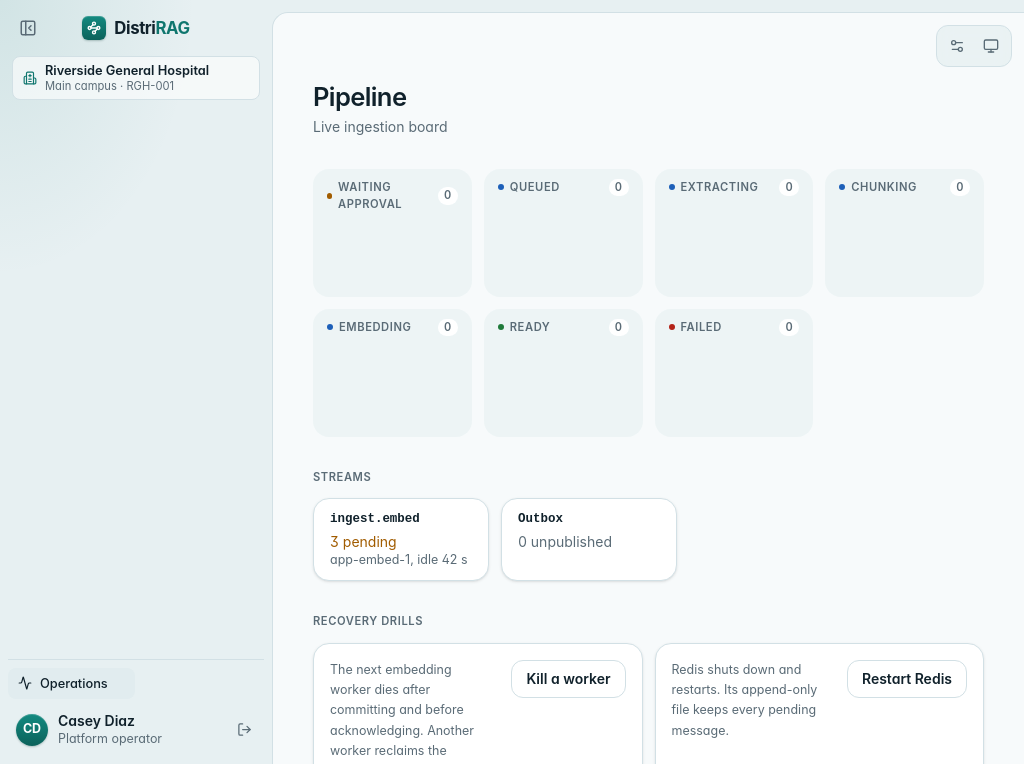
a drill asks for confirmation, then shows its timeline
Click the button "Kill a worker" at (568, 679), box [511,660,626,698]
(page scrolled)
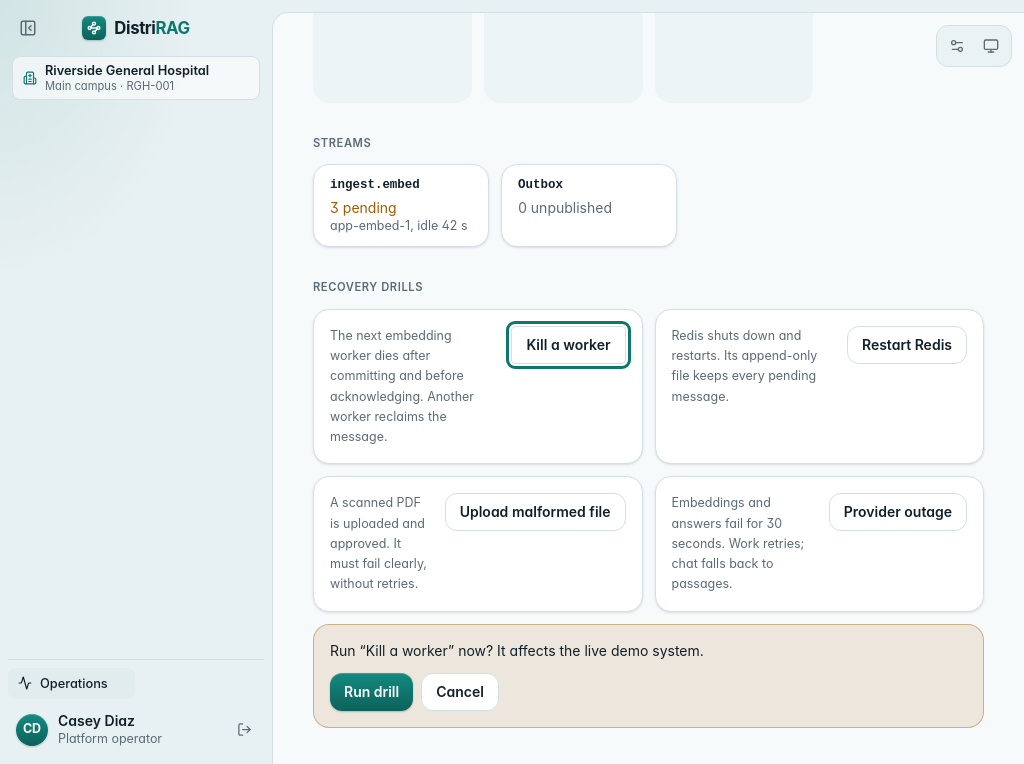
Click the button "Run drill" at (372, 692), box [330,673,413,711]
(page scrolled)
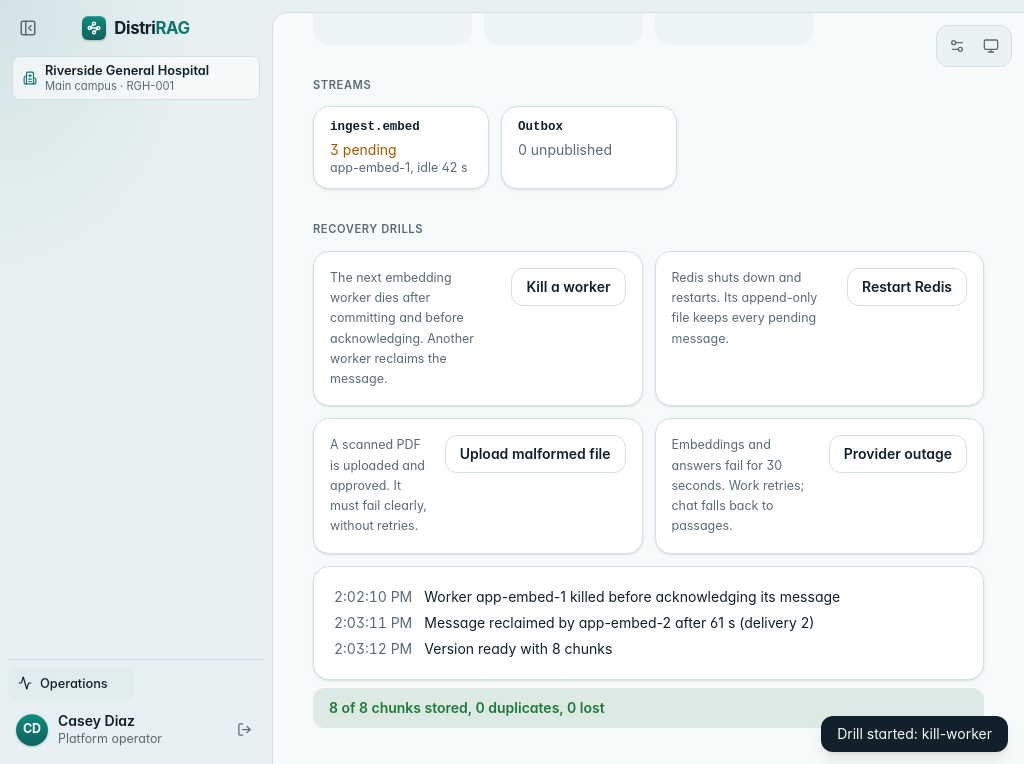
Expected: the list item "reclaimed by app-embed-2 after 61 s" is shown, [424,614,814,631]
Expected: the text "8 of 8 chunks stored, 0 duplicates, 0 lost" is shown, [313,688,984,728]
